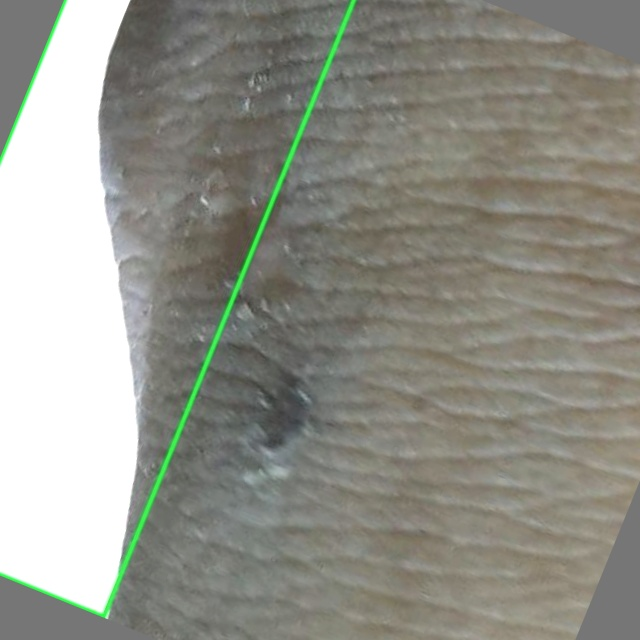Scabies: (0, 0, 355, 617)
